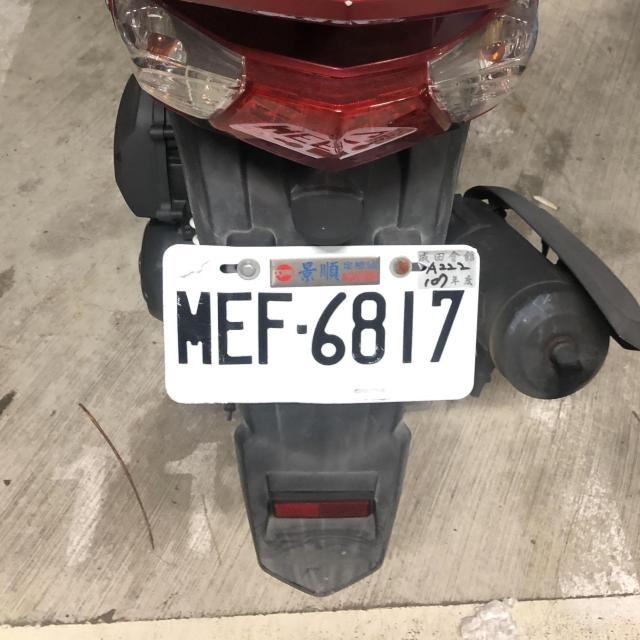W: (157, 238, 485, 409)
